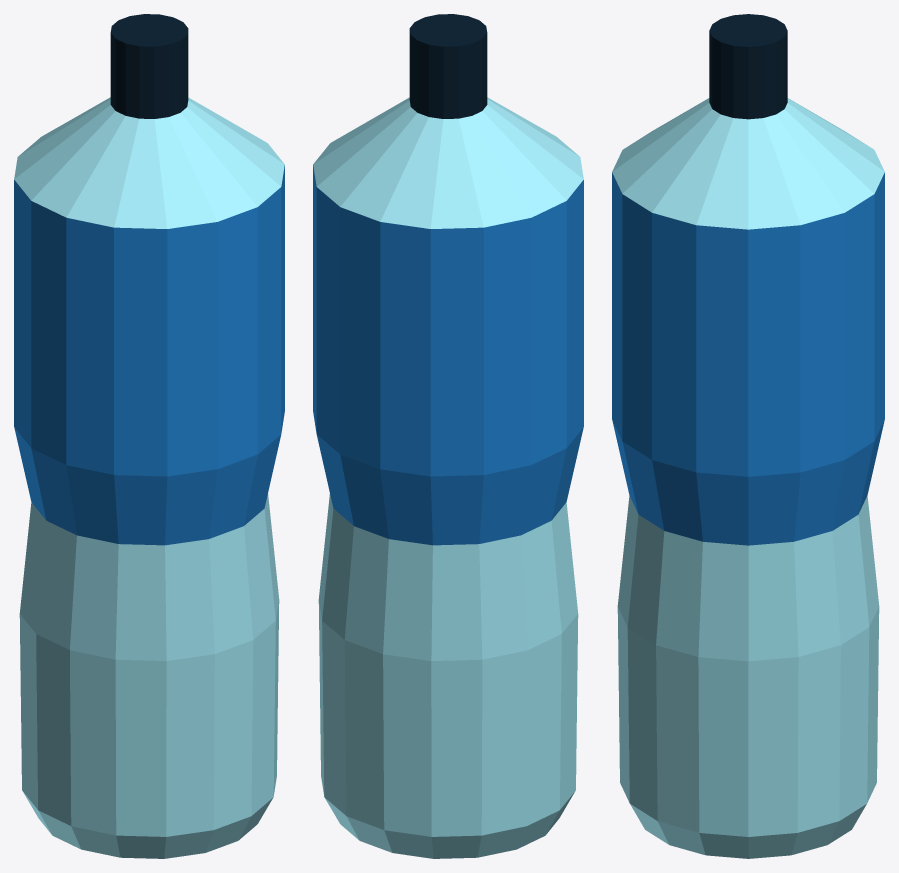
Rendered from WaterBottle_01.fbx.
3 views of the same model, side by side, from view 1: azimuth 30°, elevation 25°; view 2: azimuth 150°, elevation 25°; view 3: azimuth 270°, elevation 25° (orthographic).
Visible parts, largest first — view 1: WaterBottle_01; view 2: WaterBottle_01; view 3: WaterBottle_01.
Part boxes in pixels (<box>): WaterBottle_01: <box>14,14,284,858</box>; WaterBottle_01: <box>313,14,583,858</box>; WaterBottle_01: <box>612,14,884,858</box>.
Size of the model in its own units: 14.46 by 45.67 by 14.46.
